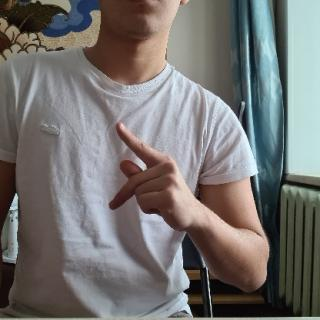DHAA: (105, 120, 200, 236)
